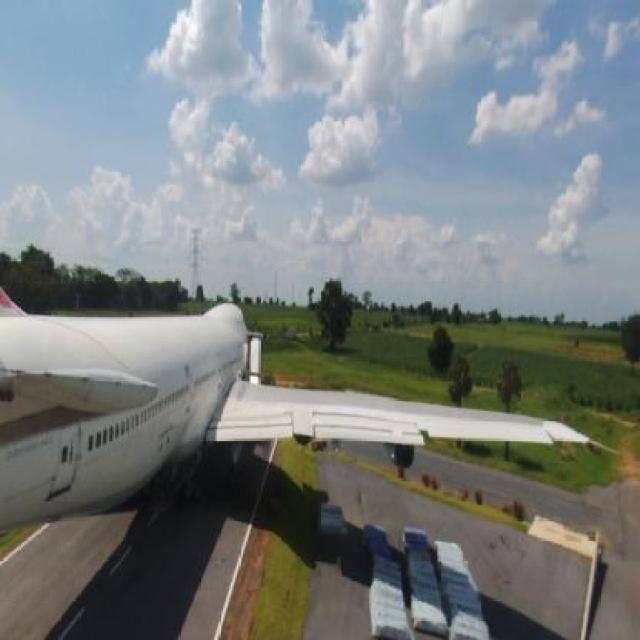Scartch: (5, 479, 53, 501)
